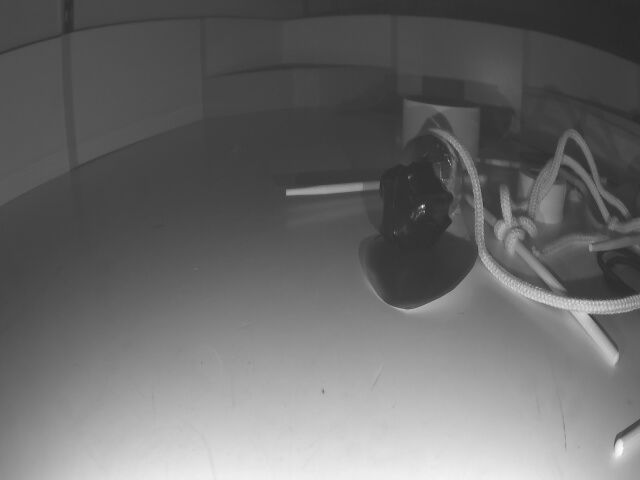Dead: (384, 168, 454, 251)
Live: (409, 130, 469, 207)
Point: (201, 50, 399, 114), (527, 85, 640, 171)
